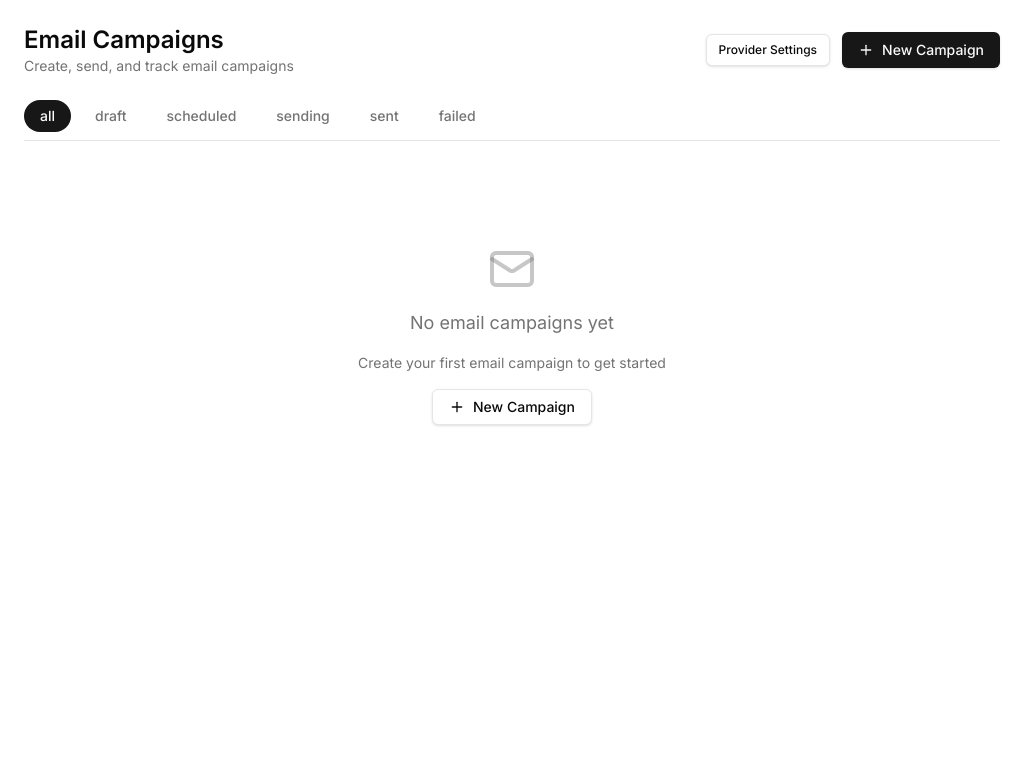
it: EmailCampaignsPage › opens new campaign form
Click the button "New Campaign" in the row of "Create, send, and track email campaigns": (921, 50) [842,32,1000,68]
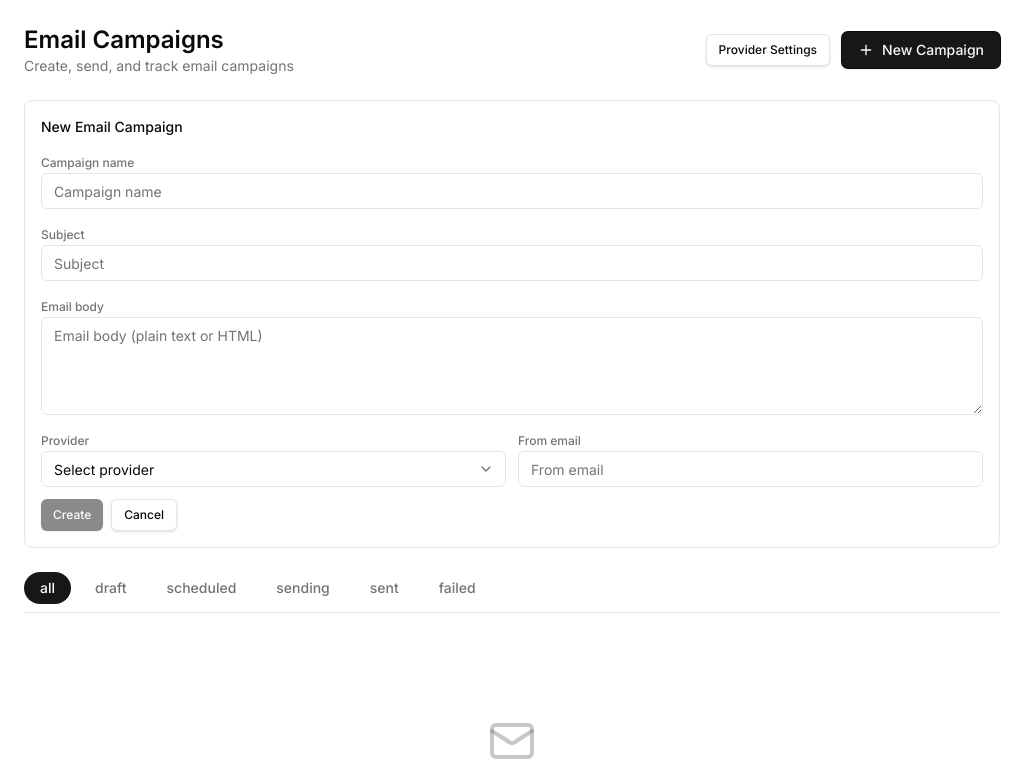
expect the field with placeholder "Campaign name" is shown: met, box [41,173,983,209]
expect the field with placeholder "Subject" is shown: met, box [41,245,983,281]
